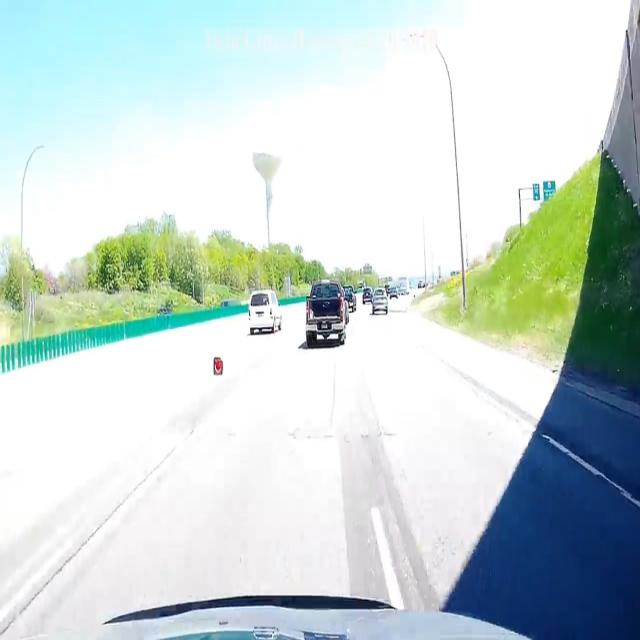Traffic Cone: (212, 356, 222, 377)
